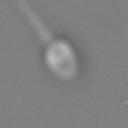normal: (13, 1, 52, 42)
